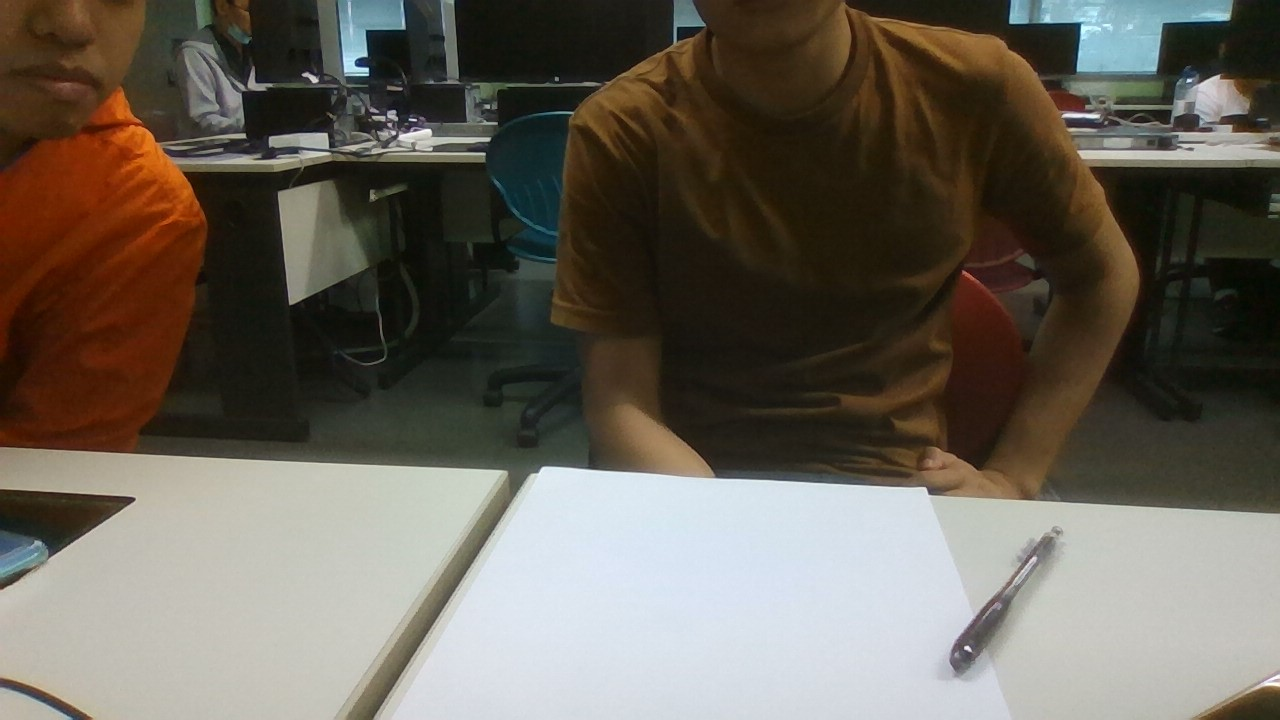pen: (954, 528, 1063, 681)
